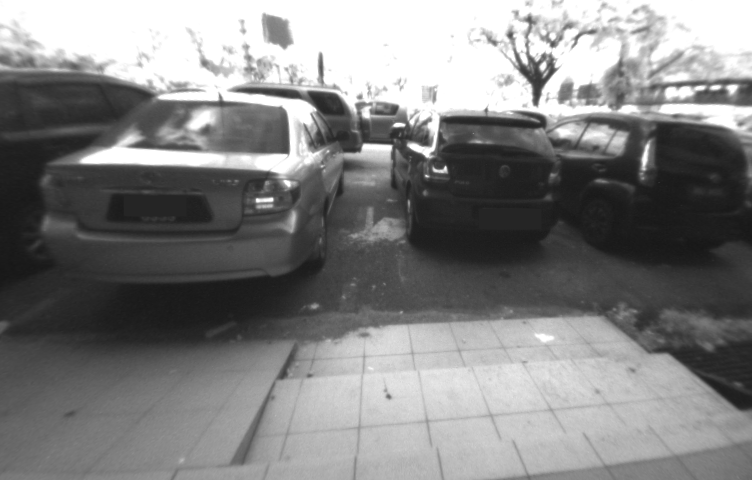down_steps: (233, 319, 742, 472)
mixed_gradient: (162, 330, 329, 480)
uncovered_drainage: (641, 322, 752, 424)
